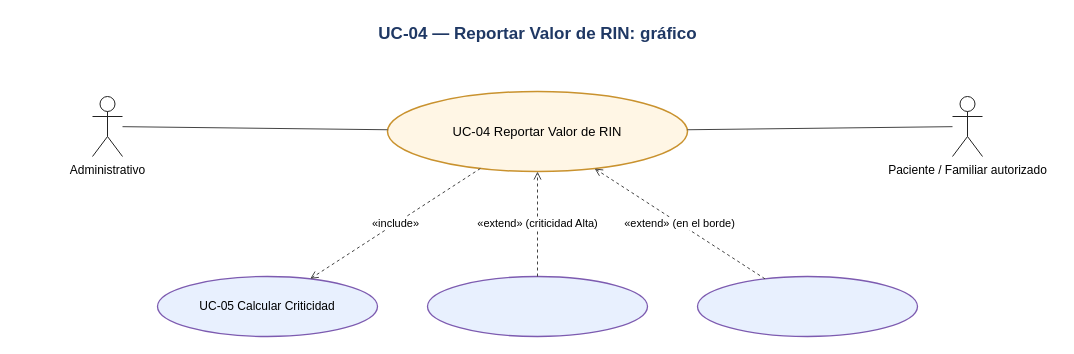
The diagram is 1074 pixels wide and 354 high, and some of its shapes have lost their labels. The shapes that lost their labels are listed below. From the top down, each one's centre as x and y in pixels, then its label:
[537,306]: UC-07 Notificar Alerta Urgente
[807,306]: UC-08 Tendencia Peligrosa
